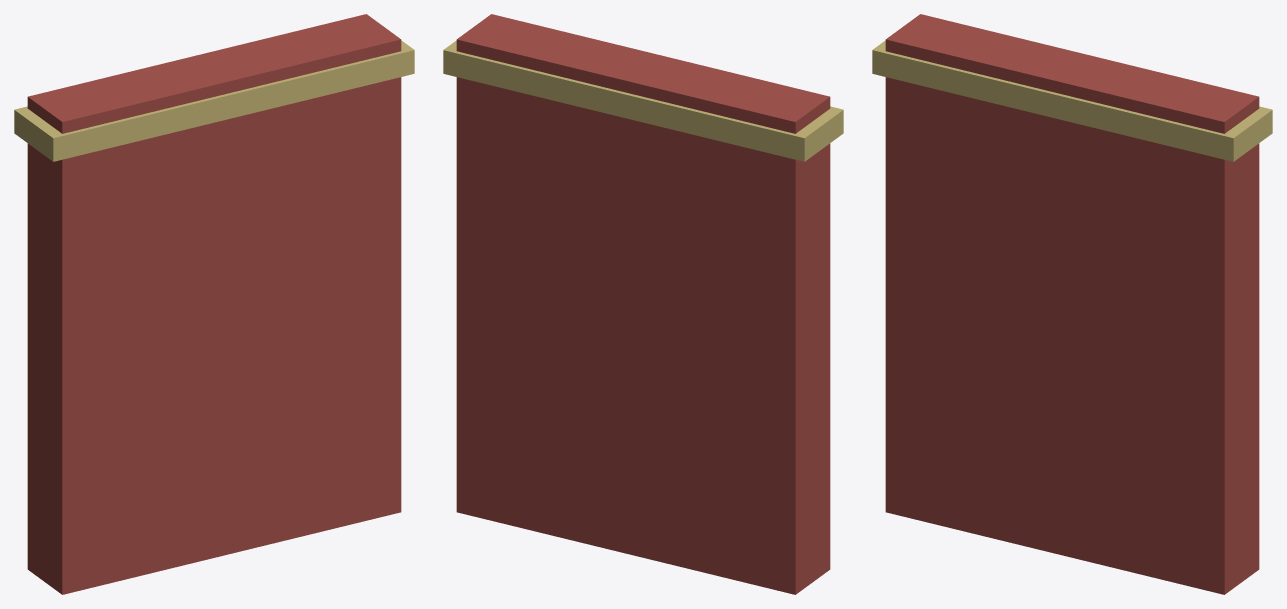
Rendered from kite_shield_red.glb.
The picture shows the model from 3 angles, left to right: view 1: azimuth 30°, elevation 25°; view 2: azimuth 150°, elevation 25°; view 3: azimuth 330°, elevation 25°; orthographic projection.
Visible parts, largest first — view 1: world; view 2: world; view 3: world.
Part boxes in pixels (box(x1,y1,x2,y2)): world: box(14, 14, 414, 594); world: box(443, 14, 843, 594); world: box(872, 14, 1272, 594).
Size of the model in its own units: 0.48 by 0.6 by 0.09.
